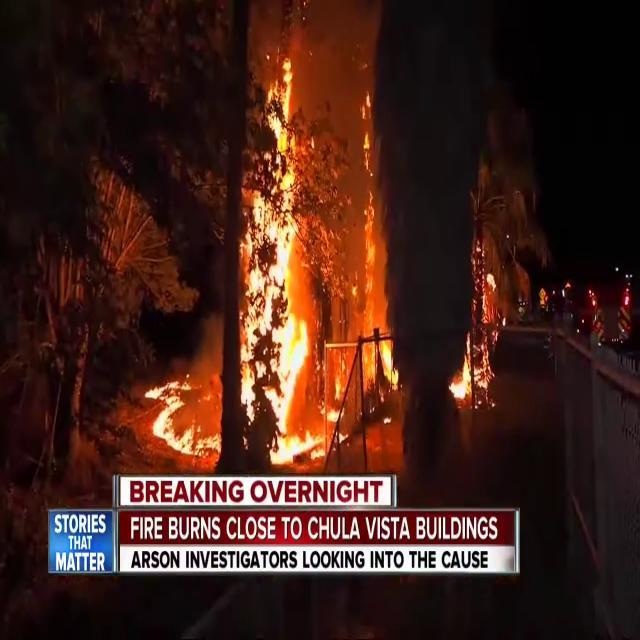Fire: (234, 51, 330, 463), (346, 96, 400, 398), (139, 374, 215, 464), (450, 334, 474, 406)
